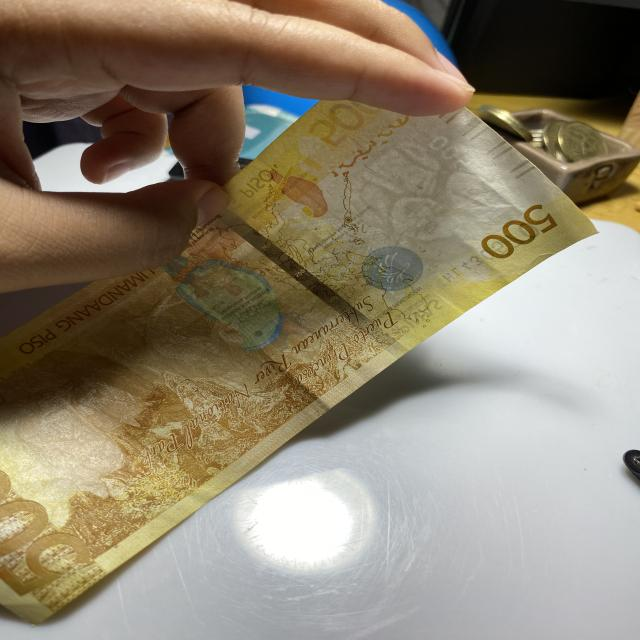500_big_parrot: (156, 252, 286, 356)
500_parrot_watermark: (258, 171, 332, 223)
value_watermark: (427, 134, 478, 167)
watermark: (339, 144, 511, 250)
